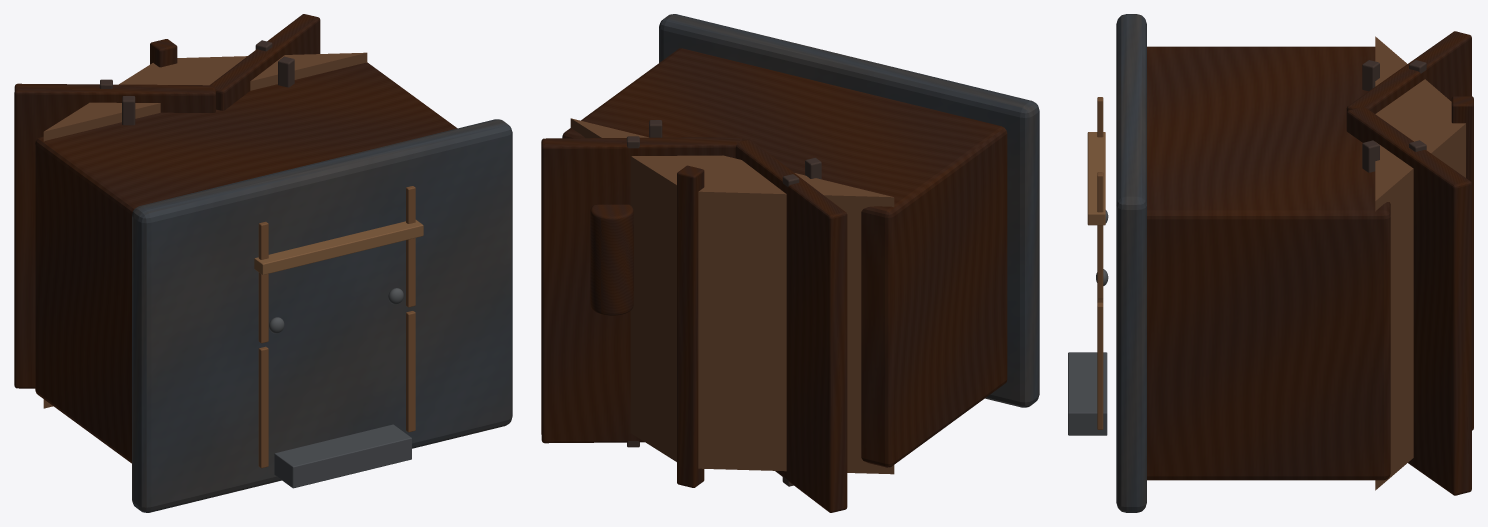
The model's file is settlement_house.glb.
3 views of the same model, side by side, from view 1: azimuth 30°, elevation 25°; view 2: azimuth 150°, elevation 25°; view 3: azimuth 270°, elevation 25° (orthographic). The views are drawn at different scales.
Parts seen in each view (by area): view 1: House_Foundation, House_Wall, House_Roof_-1, V7_House_GableBack, house_threshold, House_Roof_1, settlement_house_detail_trim, house_brace, V7_House_GableFront, house_brace.002, house_brace.001, house_brace.003 (+1 smaller); view 2: House_Wall, V7_House_GableBack, House_Roof_1, House_Foundation, House_Roof_-1, V7_House_GableFront, House_Ridge, House_Chimney; view 3: House_Wall, House_Roof_1, House_Foundation, V7_House_GableBack, House_Roof_-1, house_threshold, V7_House_GableFront, House_Ridge, settlement_house_detail_trim, house_brace.002, house_brace.003, V7_House_Rafter.002 (+1 smaller).
Part boxes in pixels (bbox=[...]): House_Foundation: bbox=[132, 119, 512, 512]; House_Wall: bbox=[35, 62, 457, 463]; House_Roof_-1: bbox=[14, 83, 215, 388]; V7_House_GableBack: bbox=[43, 52, 367, 405]; house_threshold: bbox=[274, 424, 411, 488]; House_Roof_1: bbox=[210, 14, 320, 110]; settlement_house_detail_trim: bbox=[254, 220, 423, 274]; house_brace: bbox=[258, 346, 268, 468]; V7_House_GableFront: bbox=[43, 56, 366, 408]; house_brace.002: bbox=[406, 311, 415, 432]; house_brace.001: bbox=[258, 221, 268, 343]; house_brace.003: bbox=[406, 186, 415, 307]; House_Wall: bbox=[562, 48, 1007, 467]; V7_House_GableBack: bbox=[570, 118, 894, 471]; House_Roof_1: bbox=[541, 137, 742, 443]; House_Foundation: bbox=[659, 14, 1039, 407]; House_Roof_-1: bbox=[735, 139, 847, 512]; V7_House_GableFront: bbox=[576, 128, 894, 474]; House_Ridge: bbox=[677, 165, 704, 487]; House_Chimney: bbox=[590, 204, 633, 315]; House_Wall: bbox=[1147, 46, 1390, 480]; House_Roof_1: bbox=[1346, 107, 1471, 495]; House_Foundation: bbox=[1116, 14, 1146, 512]; V7_House_GableBack: bbox=[1375, 36, 1465, 487]; House_Roof_-1: bbox=[1346, 31, 1471, 113]; house_threshold: bbox=[1068, 352, 1107, 435]; V7_House_GableFront: bbox=[1375, 127, 1465, 490]; House_Ridge: bbox=[1451, 96, 1473, 430]; settlement_house_detail_trim: bbox=[1087, 132, 1105, 225]; house_brace.002: bbox=[1097, 302, 1103, 429]; house_brace.003: bbox=[1097, 172, 1103, 299]; V7_House_Rafter.002: bbox=[1362, 140, 1379, 172].
Bounding box in the file's own units: 5.3 × 4.24 × 4.78.
Materials: 13 (4 with a texture image).
